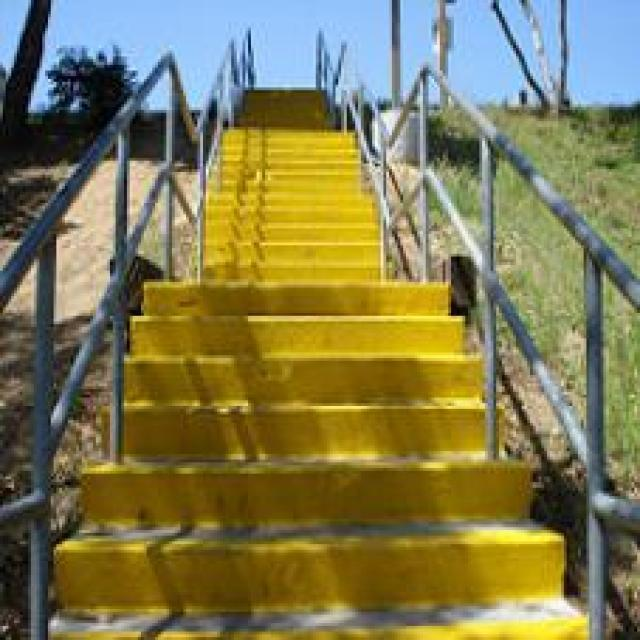stair: (65, 344, 564, 567)
